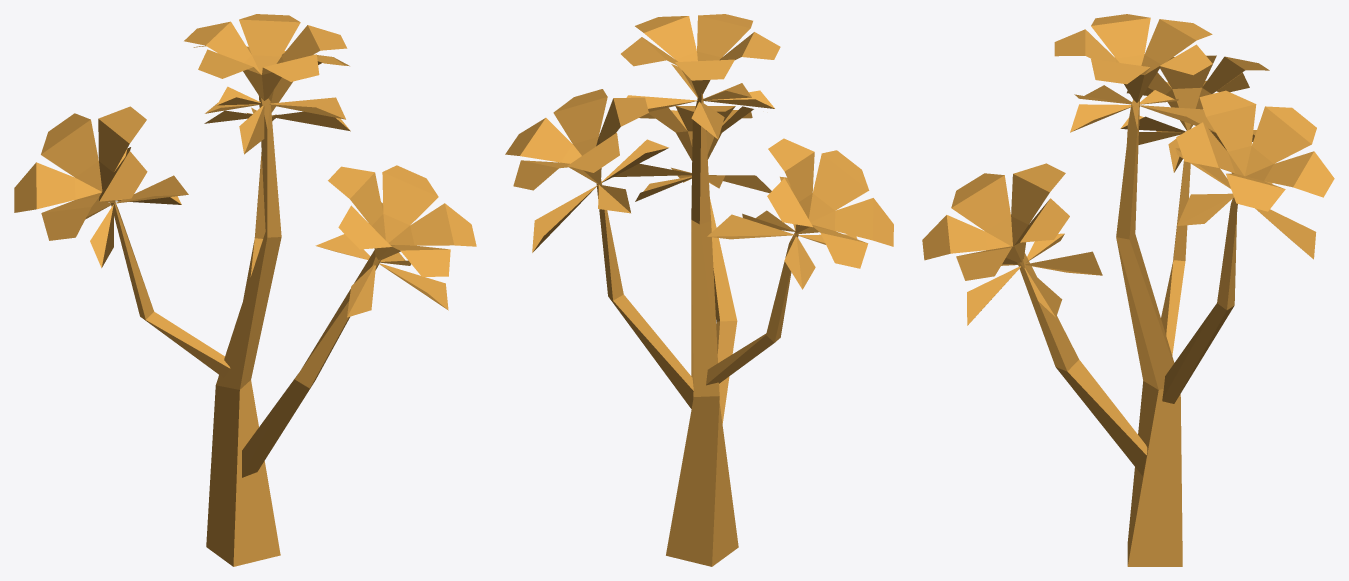
The model's file is flower-poisonous.fbx.
3 views of the same model, side by side, from view 1: azimuth 30°, elevation 25°; view 2: azimuth 150°, elevation 25°; view 3: azimuth 270°, elevation 25° (orthographic). The views are drawn at different scales.
Parts seen in each view (by area): view 1: flower-poisonous; view 2: flower-poisonous; view 3: flower-poisonous.
Part boxes in pixels (box(x1,y1,x2,y2)): flower-poisonous: box(14, 14, 476, 566); flower-poisonous: box(505, 14, 893, 566); flower-poisonous: box(922, 14, 1334, 566).
Size of the model in its own units: 0.691 by 0.9838 by 0.7089.
